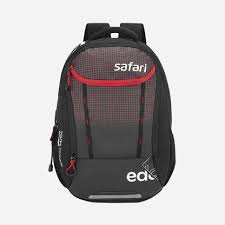backpack: (48, 21, 176, 203)
